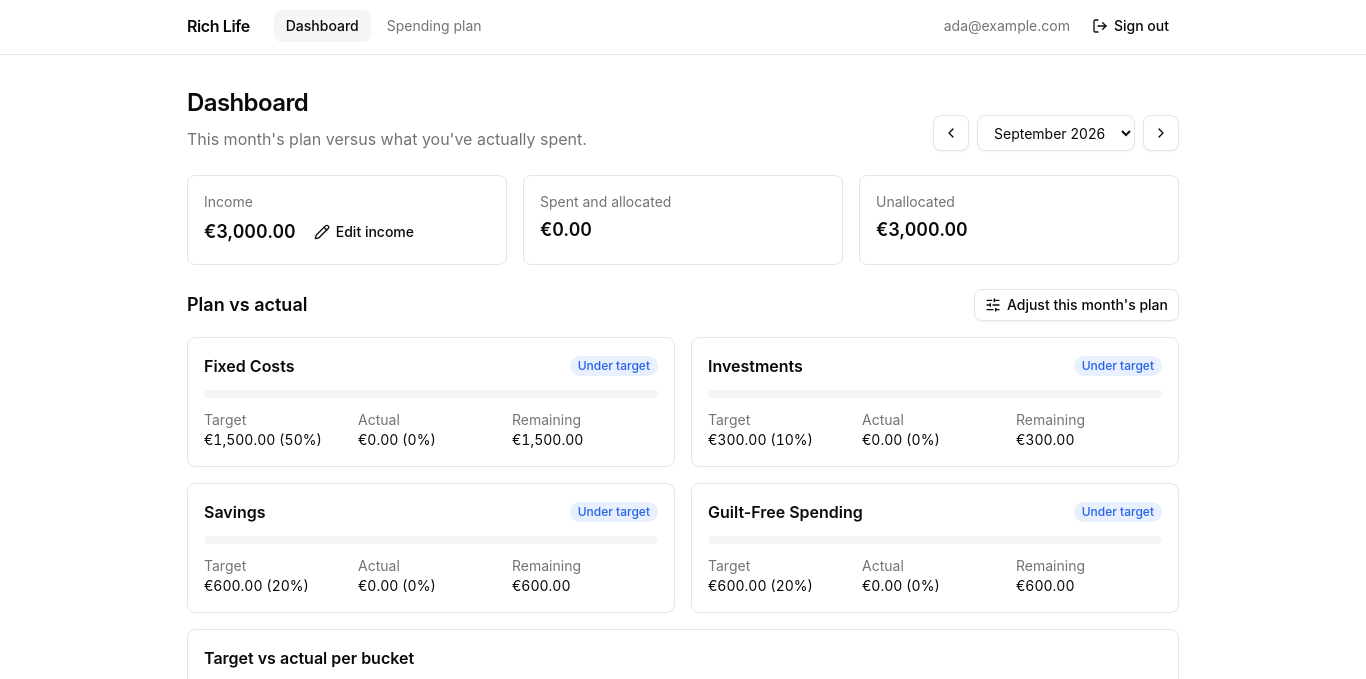
Test case: MonthTargetsEditor › does not save the month's percentages when they don't add up to 100%
Click the button "Adjust this month's plan": (1076, 305) x1=974 y1=289 x2=1179 y2=321
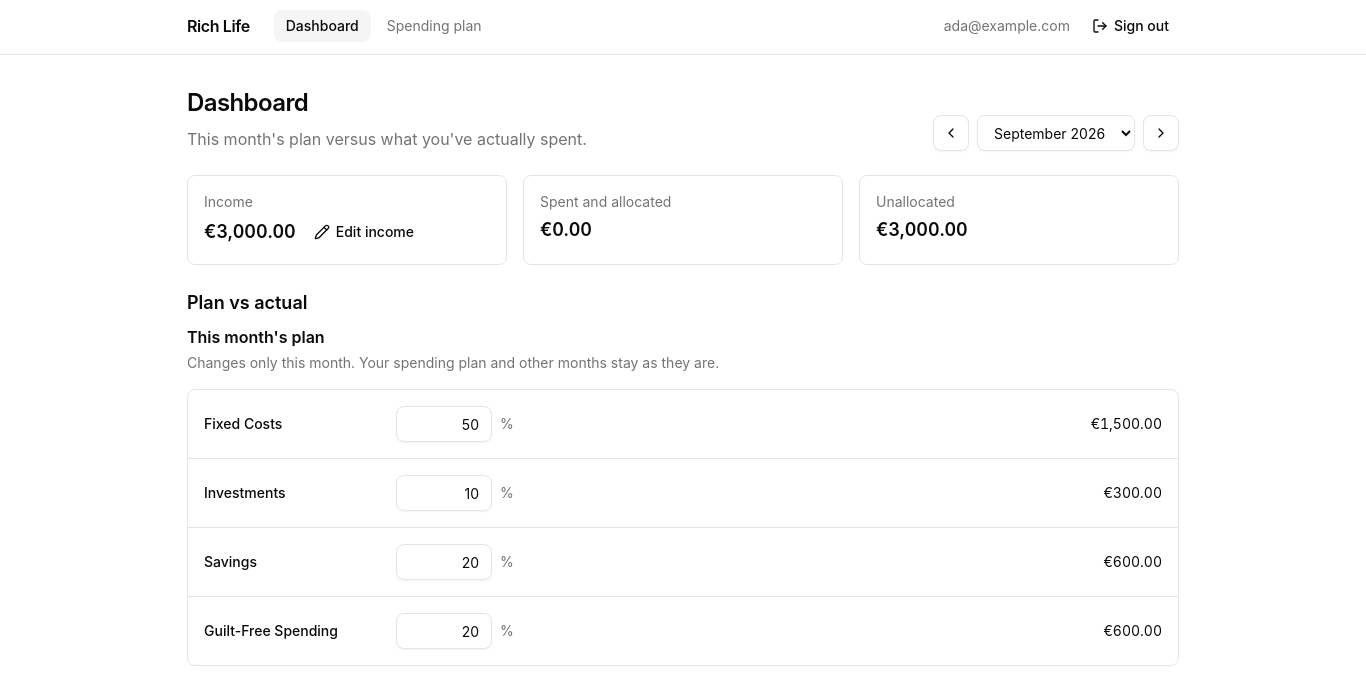
Replace the text in the field labelled "Savings" with "30": (444, 562) x1=396 y1=544 x2=492 y2=580
(page scrolled)
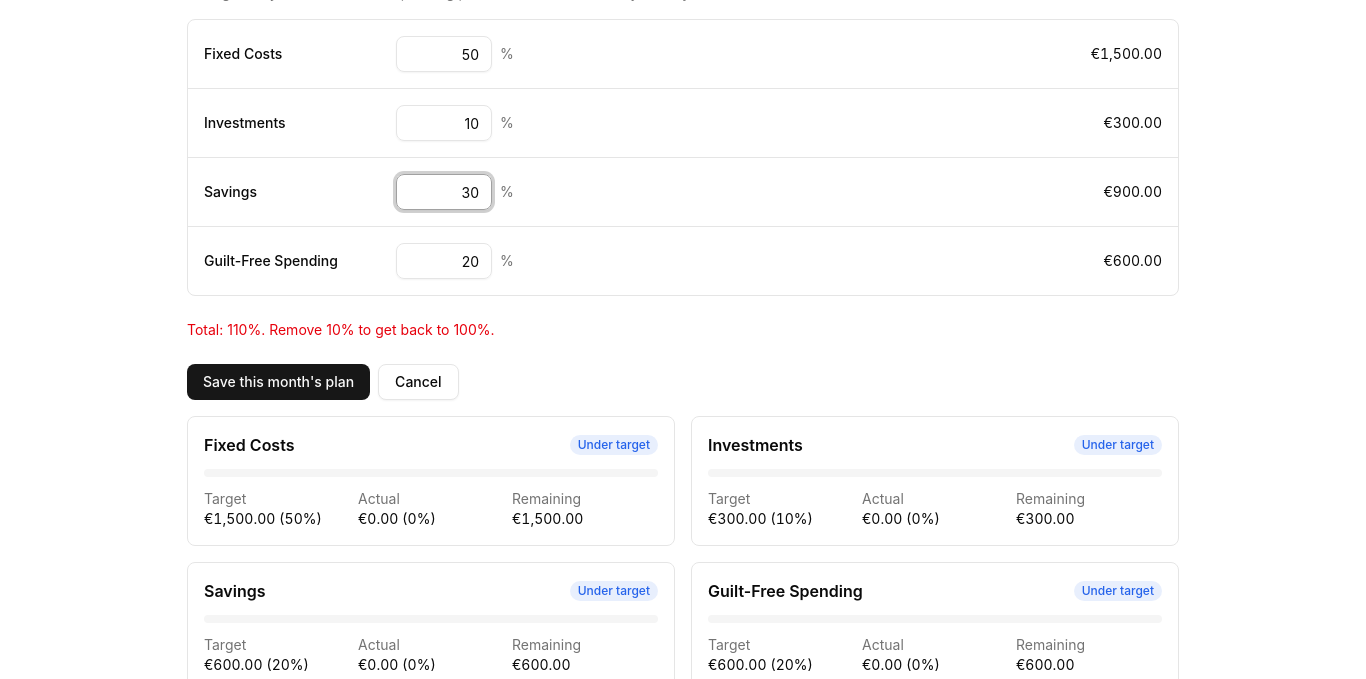
Click the button "Save this month's plan": (279, 382) x1=187 y1=364 x2=370 y2=400
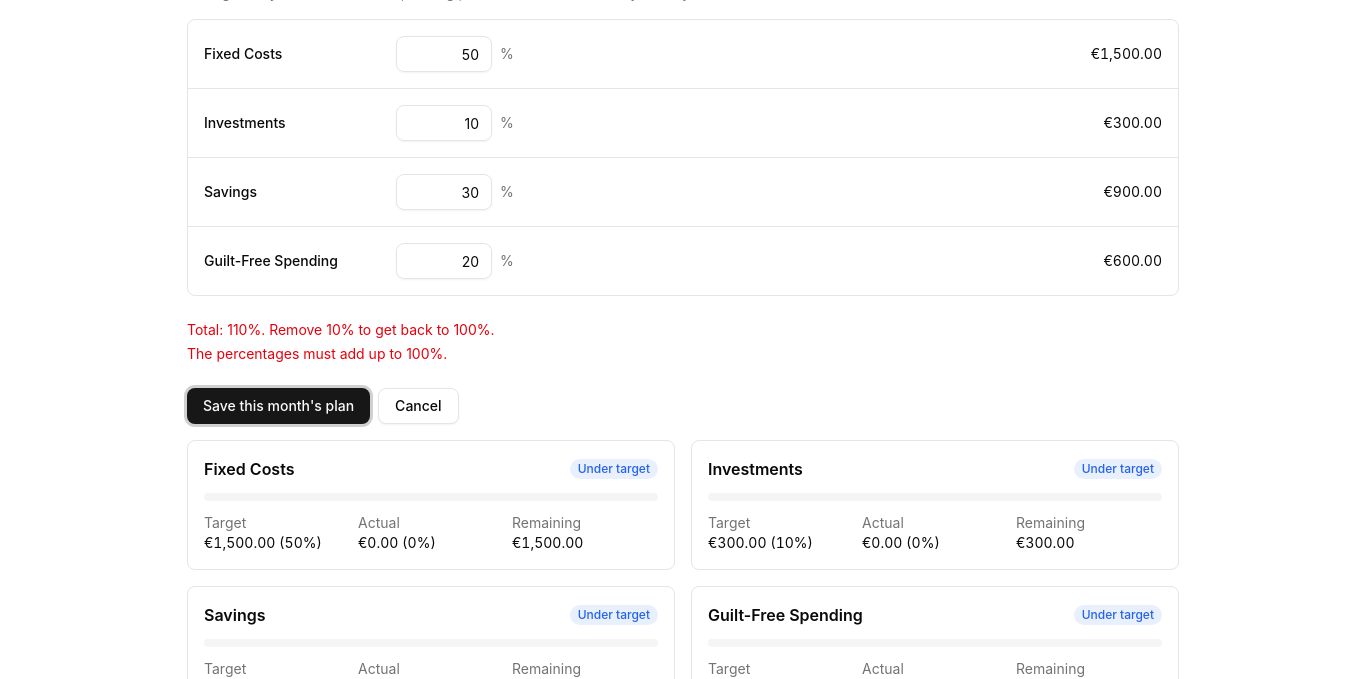
Expected: the text "The percentages must add up to 100%." is shown, x1=187 y1=345 x2=447 y2=362
